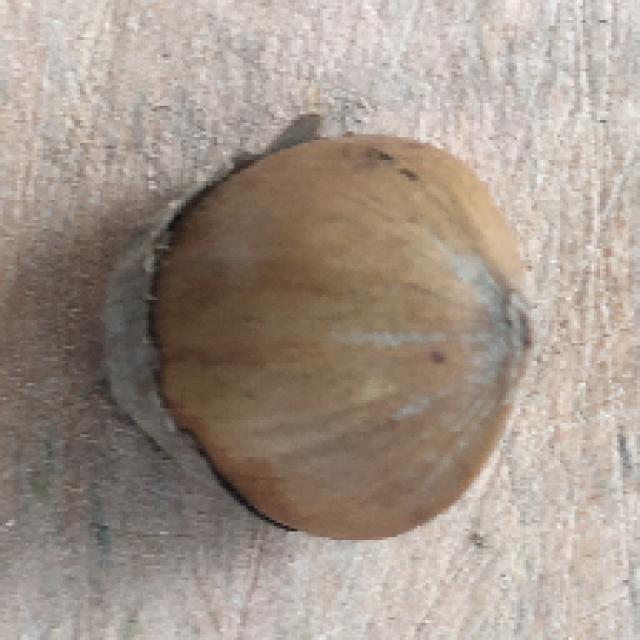damagedHazelnut: (105, 123, 540, 538)
